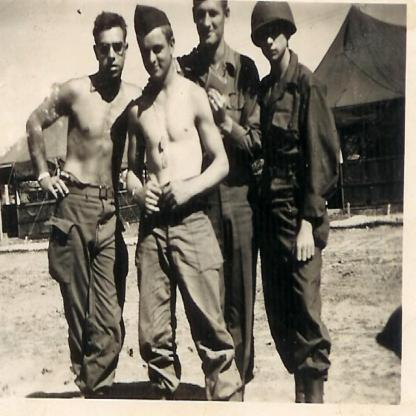face: (141, 32, 170, 80), (196, 5, 226, 49), (97, 30, 124, 78), (259, 22, 286, 63)
